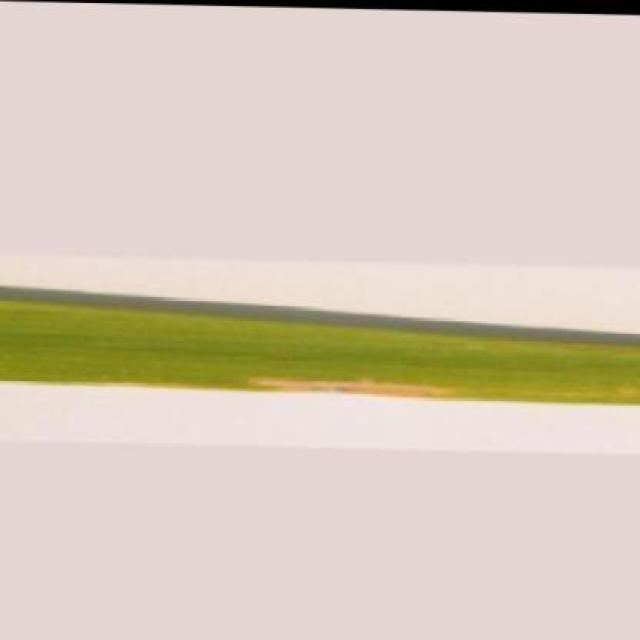Brown_Spot: (0, 292, 640, 410)
